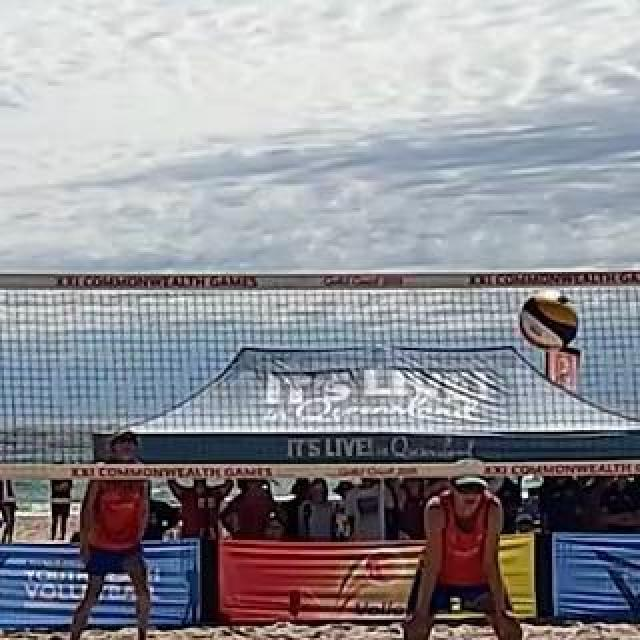volleyball: (516, 291, 578, 351)
